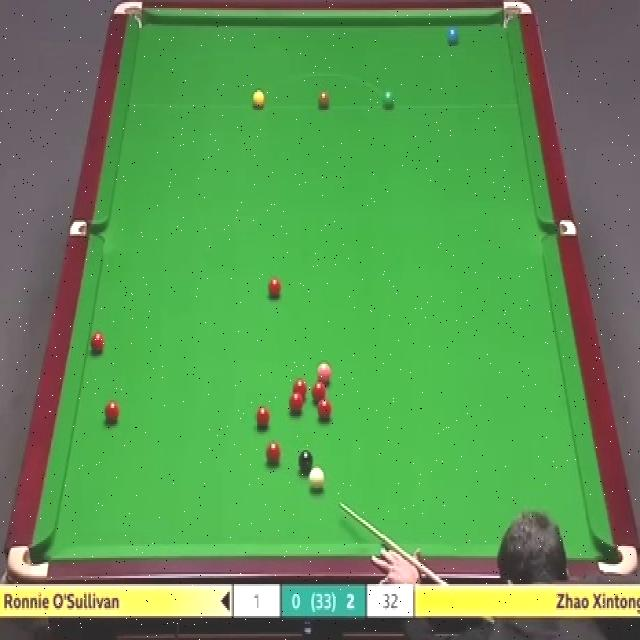black-ball: (296, 446, 314, 476)
blue-ball: (445, 22, 461, 47)
brown-ball: (317, 91, 331, 111)
green-ball: (382, 90, 396, 112)
pink-ball: (314, 361, 332, 385)
red-ball: (265, 441, 283, 466), (104, 399, 120, 427), (267, 276, 283, 300), (288, 393, 304, 416), (256, 405, 270, 431), (89, 331, 104, 355), (291, 379, 308, 400), (317, 398, 332, 420), (311, 382, 327, 402)
white-ball: (308, 466, 326, 495)
yellow-ball: (252, 90, 266, 110)
